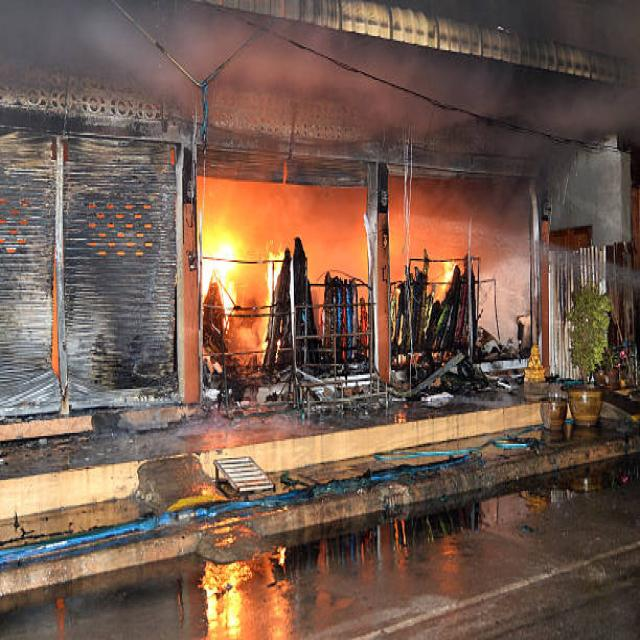fire: (198, 239, 237, 334)
